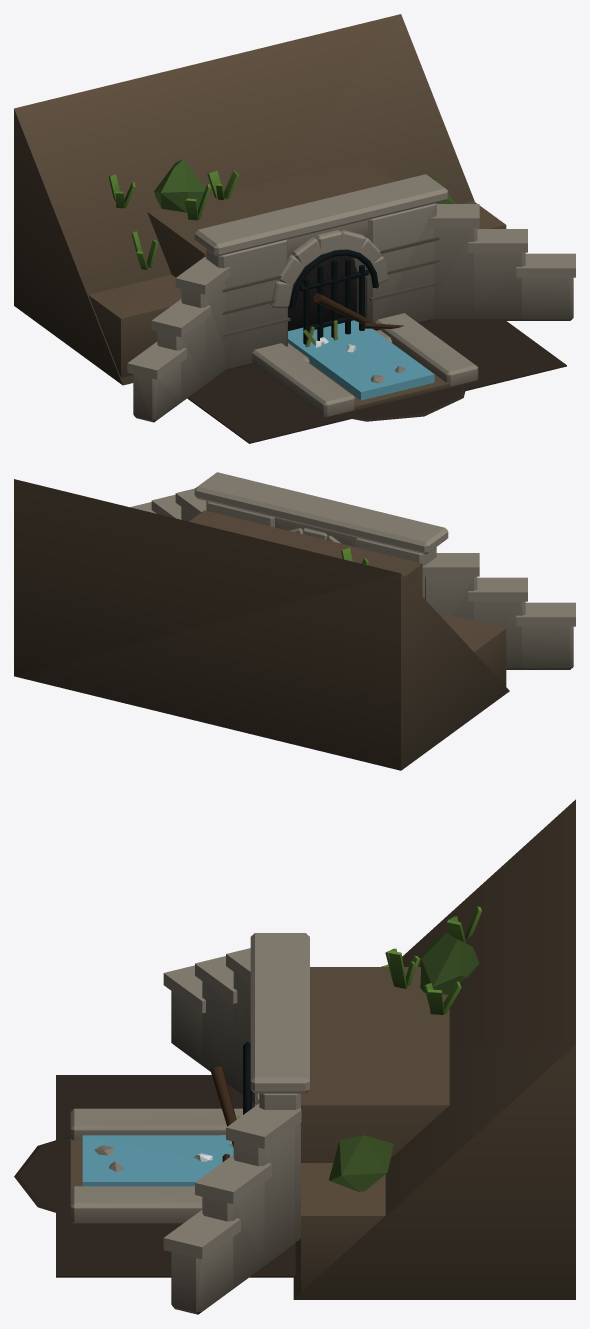
File: culvert.glb
3 views of the same model, one above another, from view 1: azimuth 30°, elevation 25°; view 2: azimuth 150°, elevation 25°; view 3: azimuth 270°, elevation 25° (orthographic). The views are drawn at different scales.
Parts seen in each view (by area): view 1: culvert; view 2: culvert; view 3: culvert.
Part boxes in pixels (bbox=[...]): culvert: bbox=[14, 14, 575, 443]; culvert: bbox=[14, 472, 575, 770]; culvert: bbox=[14, 799, 575, 1314].
Bounding box in the file's own units: 4.52 × 1.92 × 3.78.
